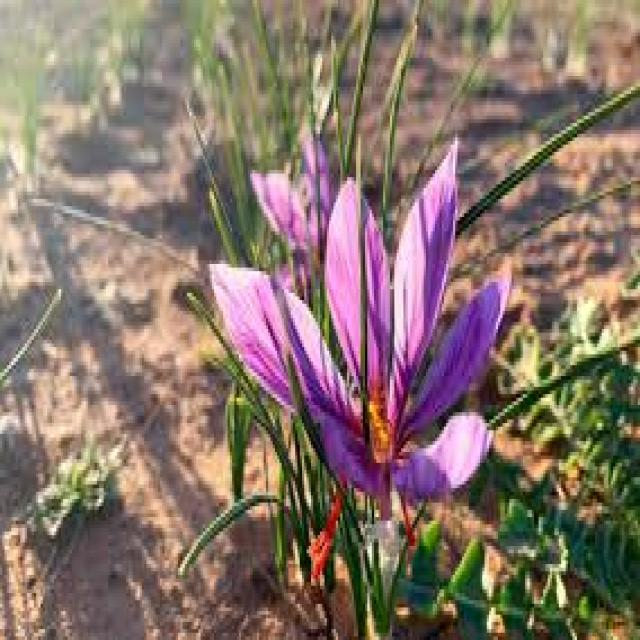Flower: (203, 148, 508, 518)
stigma: (306, 480, 351, 588), (396, 495, 418, 549)
